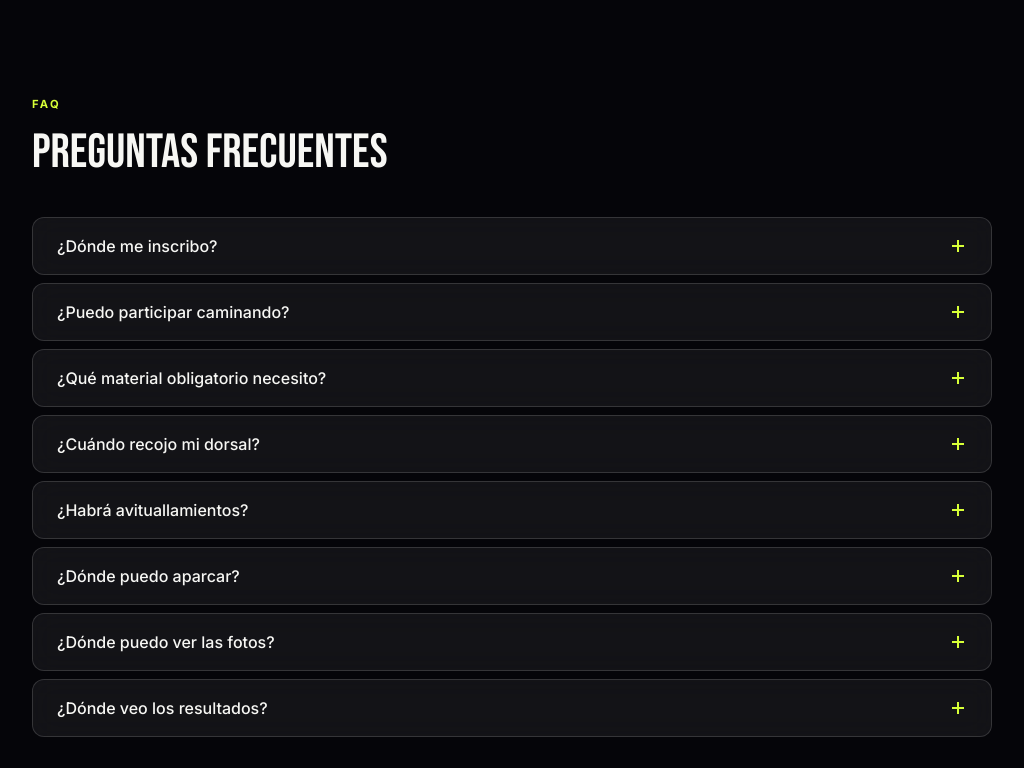
Test: Faq › answer contains Chiplevante after opening first item in Spanish
Click the heading "¿Dónde me inscribo?" at (137, 246), box [57, 236, 967, 256]
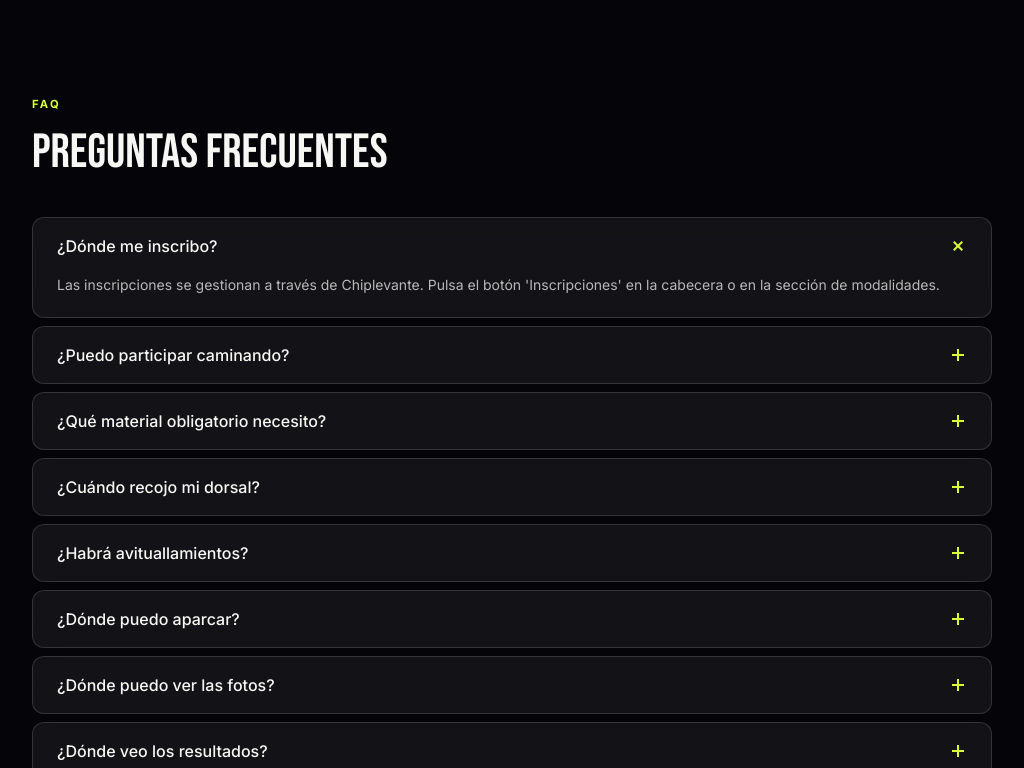
Result: the text "Chiplevante" is shown at [57, 276, 940, 293]
